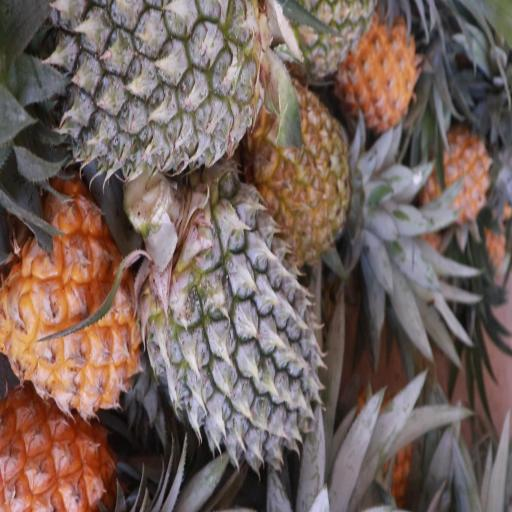------------------------------: (254, 86, 347, 252)
Pineapple - v8 v1: (0, 204, 126, 418), (342, 23, 420, 126), (419, 129, 490, 225)
